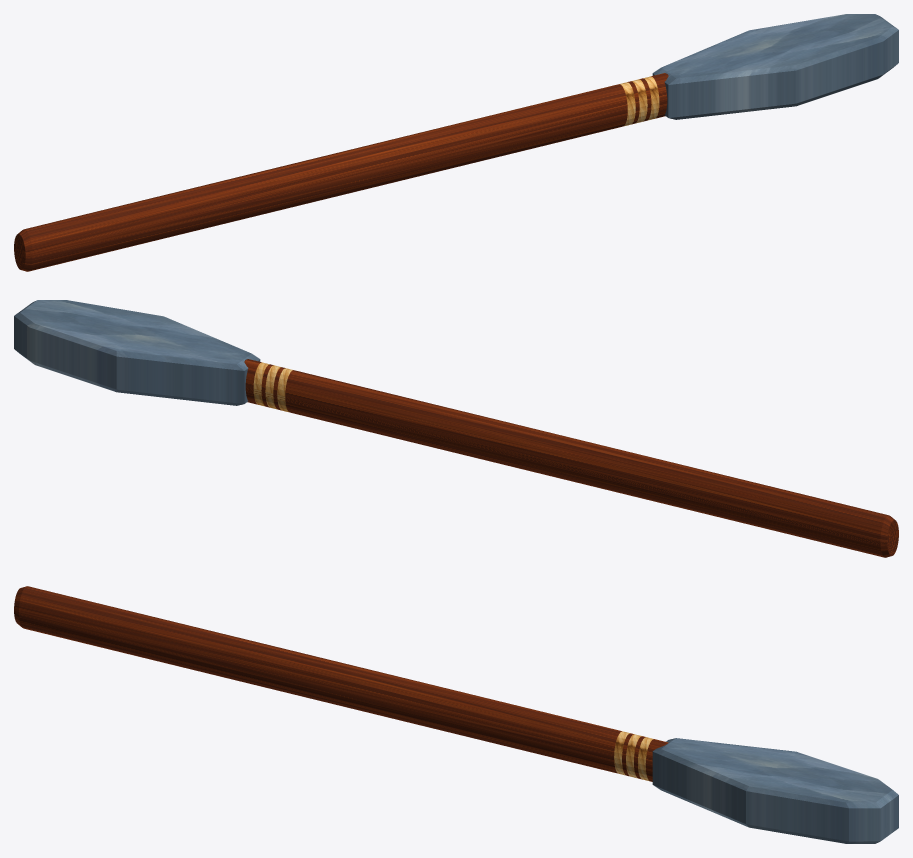
Rendered from ceremonial_spear-BX42cvlI.glb.
3 views of the same model, one above another, from view 1: azimuth 30°, elevation 25°; view 2: azimuth 150°, elevation 25°; view 3: azimuth 330°, elevation 25° (orthographic).
Parts seen in each view (by area): view 1: HI_ceremonial_spear; view 2: HI_ceremonial_spear; view 3: HI_ceremonial_spear.
Part boxes in pixels (x1,y1,x2,y2): HI_ceremonial_spear: [14, 14, 898, 271]; HI_ceremonial_spear: [14, 300, 898, 557]; HI_ceremonial_spear: [14, 586, 898, 843].
Size of the model in its own units: 2.2 by 0.1 by 0.22.
1 material, 1 textured.
